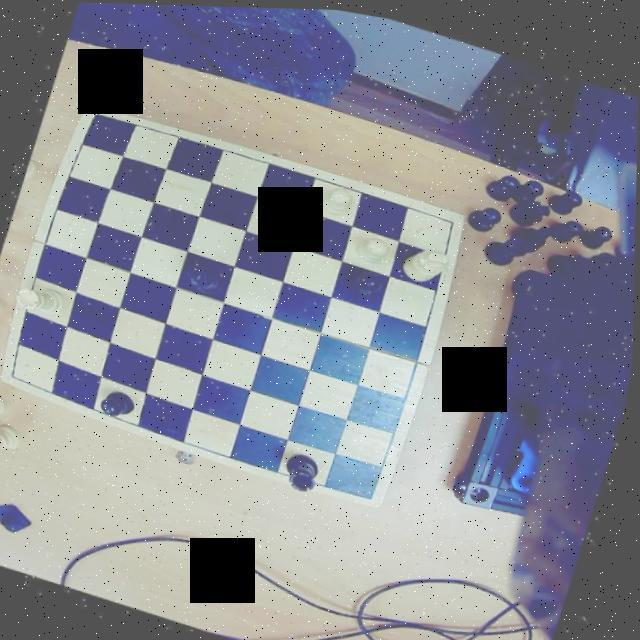chess-table-corners: (356, 477, 386, 506), (438, 208, 466, 235), (82, 103, 114, 126), (1, 360, 28, 384)
